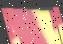scratch: (5, 1, 62, 44)
